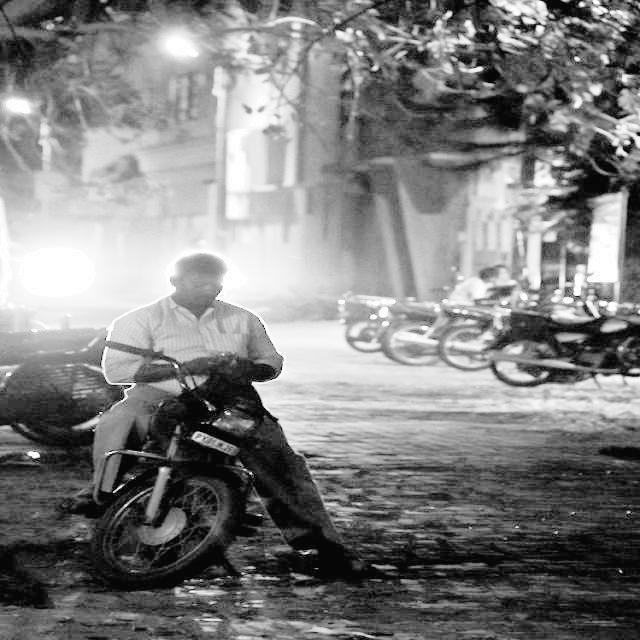Motorcycle: (95, 335, 320, 633), (504, 273, 640, 386), (430, 294, 525, 376), (324, 280, 403, 351), (384, 285, 437, 364)
